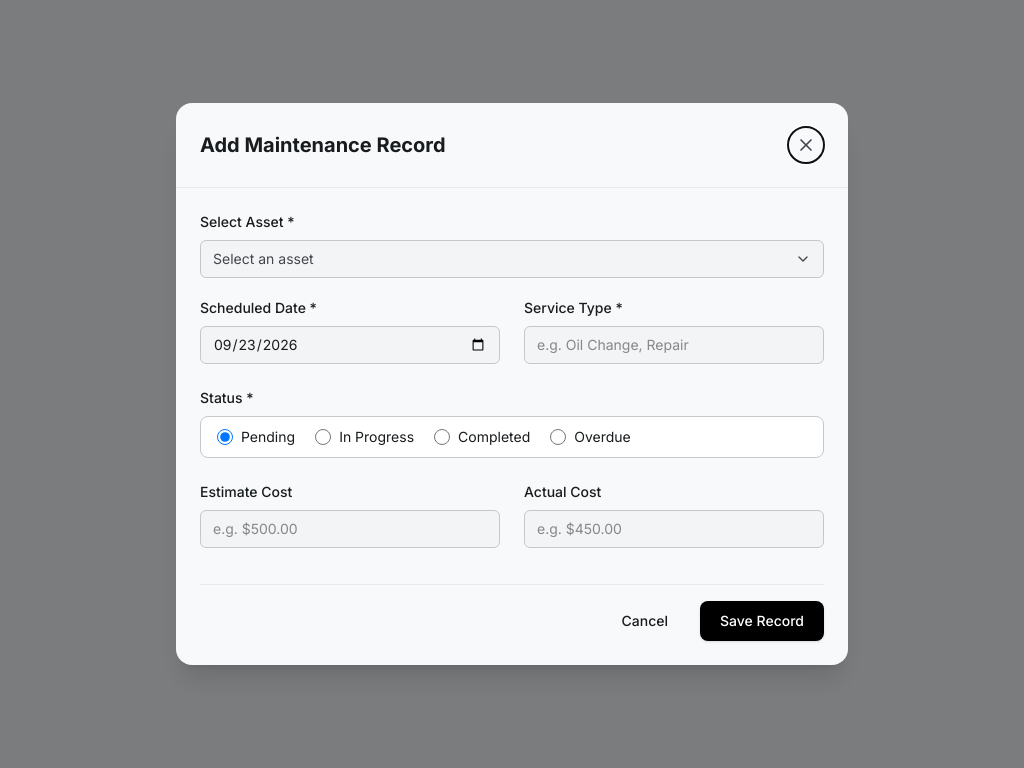
Test: AddMaintenanceModal — asset picker › lists assets only after the dropdown is opened
Expected: the text "AST-001" is not shown
What coordinates should you click on to do the following:
click the button "Select an asset"
I would click on:
 (263, 258)
Its box is [200, 240, 824, 278].
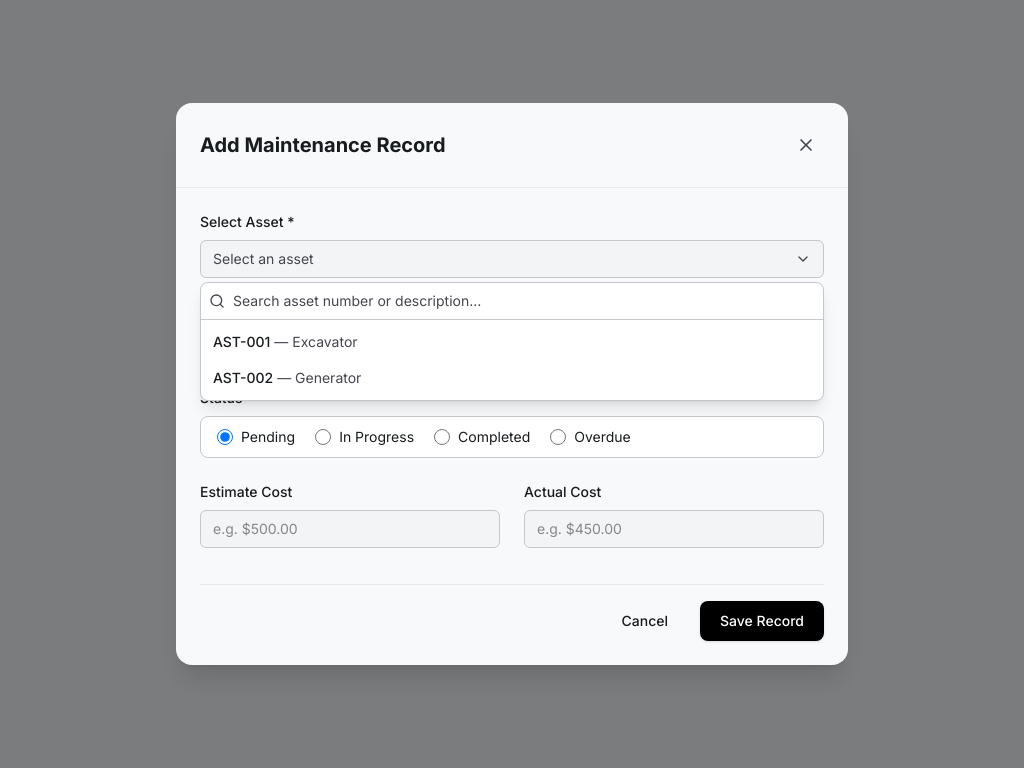
Now the text "AST-001" is shown, box [213, 333, 270, 350]
Now the text "AST-002" is shown, box [213, 369, 273, 386]
